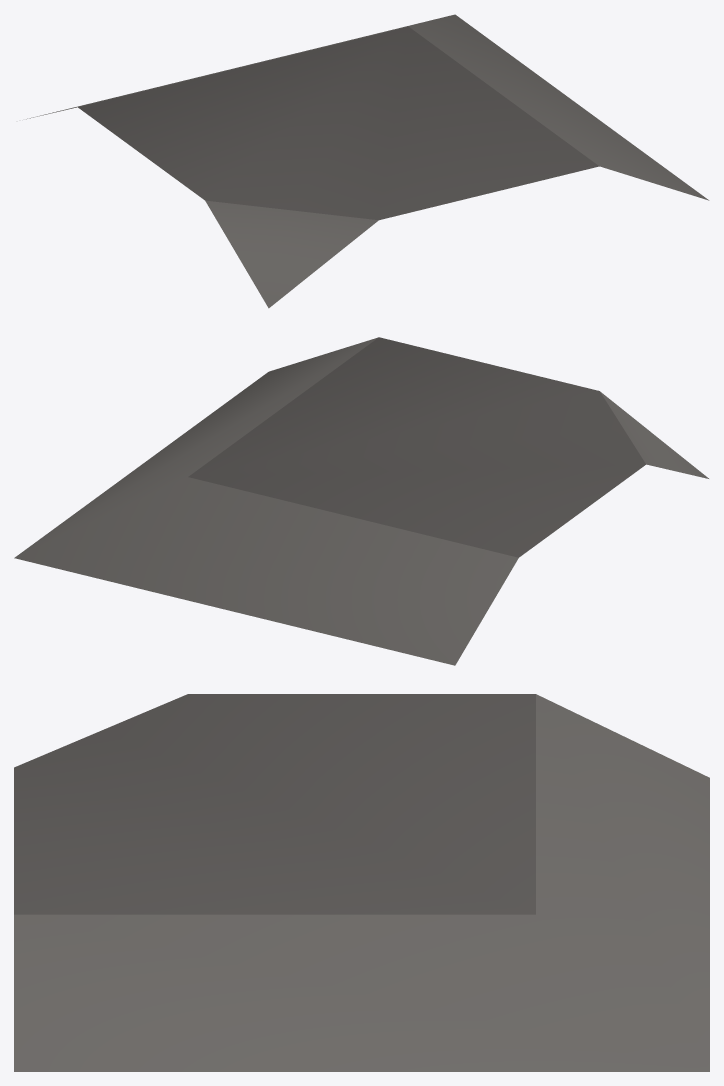
File: AI_Env_Sewer_Roof_Corner.fbx
3 views of the same model, one above another, from view 1: azimuth 30°, elevation 25°; view 2: azimuth 150°, elevation 25°; view 3: azimuth 270°, elevation 25° (orthographic). The views are drawn at different scales.
Parts seen in each view (by area): view 1: AI_Env_Sewer_Roof_Corner; view 2: AI_Env_Sewer_Roof_Corner; view 3: AI_Env_Sewer_Roof_Corner.
Boxes of the visible parts, <box> form: AI_Env_Sewer_Roof_Corner: <box>26,14,709,308</box>; AI_Env_Sewer_Roof_Corner: <box>14,337,708,665</box>; AI_Env_Sewer_Roof_Corner: <box>14,694,709,1071</box>.
Bounding box in the file's own units: 5 × 0.6645 × 5.
